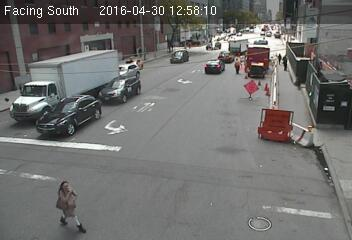neg: (180, 156, 210, 196), (184, 108, 208, 141), (306, 189, 329, 219), (310, 143, 331, 171), (151, 52, 170, 78), (220, 61, 234, 80), (84, 75, 97, 93), (115, 53, 128, 71), (281, 22, 293, 39), (185, 39, 197, 55), (214, 31, 223, 43), (266, 24, 274, 36), (240, 35, 247, 44), (249, 23, 254, 31)
pos: (45, 178, 84, 230), (232, 56, 246, 74), (281, 54, 293, 70), (275, 50, 286, 66)
